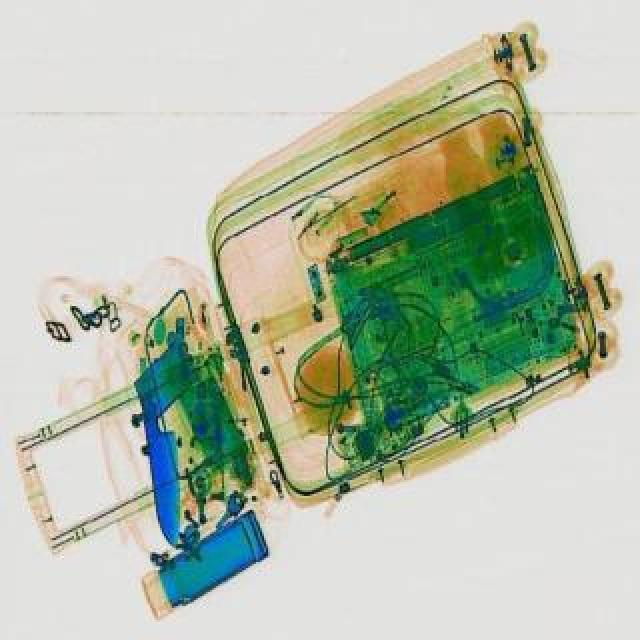knife: (128, 352, 196, 544)
